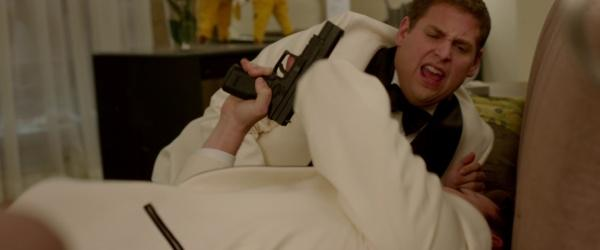Gun: (221, 18, 346, 127)
